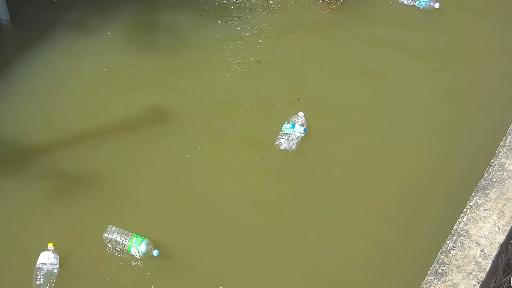plastic: (93, 223, 163, 259), (25, 239, 68, 288), (263, 108, 312, 150), (391, 0, 439, 19)
